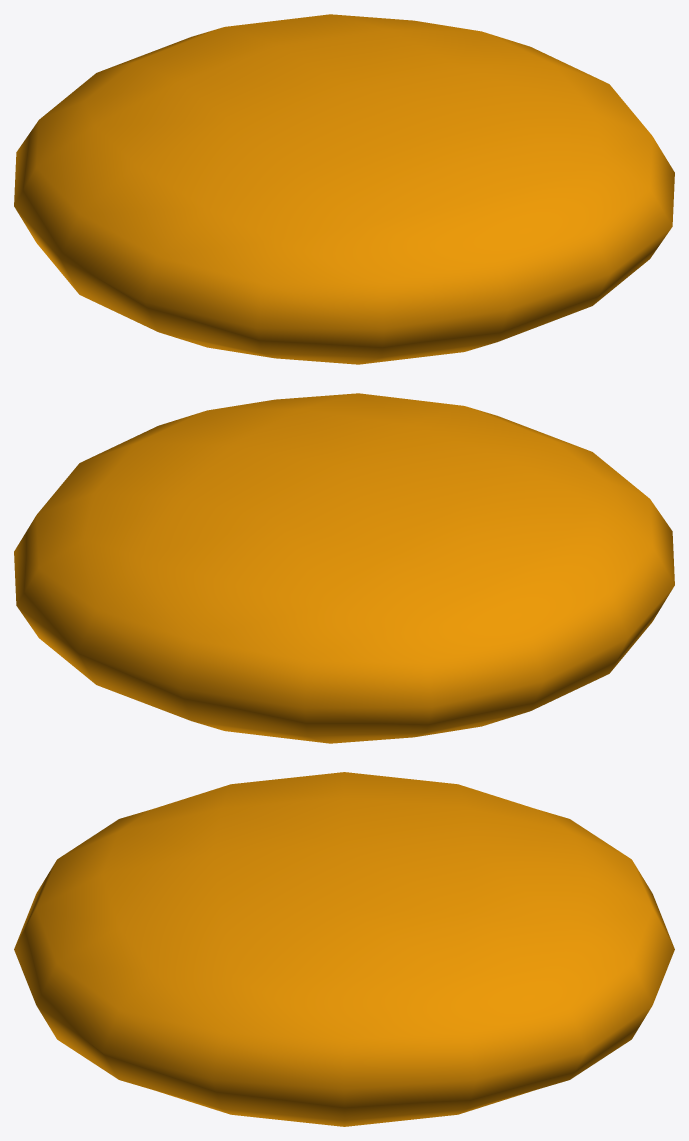
The model's file is field.fbx.
3 renders of one model, top to bottom at view 1: azimuth 30°, elevation 25°; view 2: azimuth 150°, elevation 25°; view 3: azimuth 270°, elevation 25°, orthographic.
Visible parts, largest first — view 1: Cube.001; view 2: Cube.001; view 3: Cube.001.
Part boxes in pixels (x1,y1,x2,y2): Cube.001: (14,14,674,364); Cube.001: (14,393,674,743); Cube.001: (14,772,674,1126).
Size of the model in its own units: 360 by 123 by 360.
